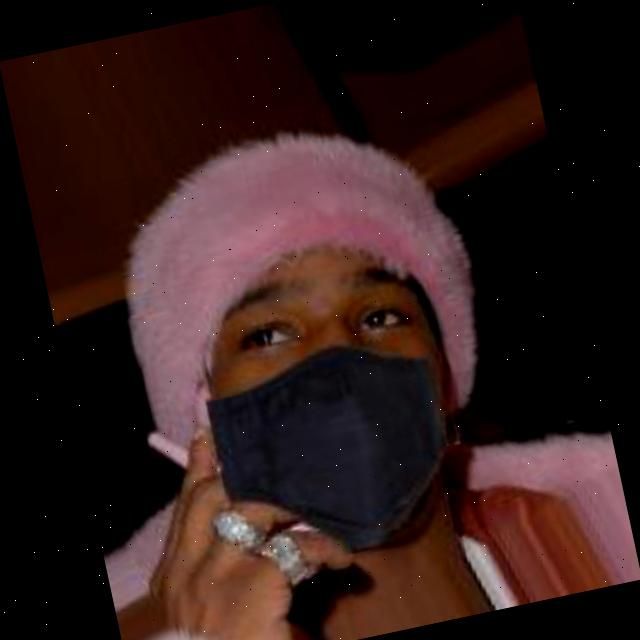suspicion: (155, 150, 472, 534)
